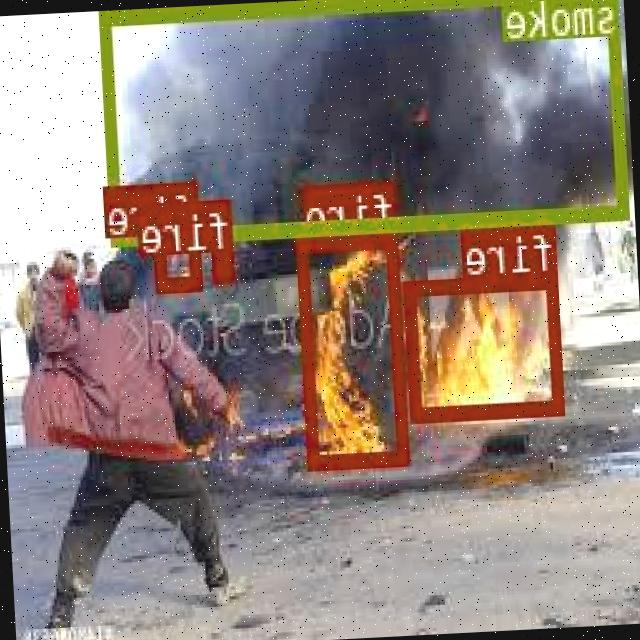fire: (300, 229, 411, 466), (408, 271, 566, 420), (157, 232, 205, 288), (214, 252, 237, 280)
smoke: (103, 0, 632, 241)
